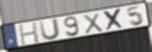5: (125, 4, 145, 27)
9: (63, 16, 81, 38)
H: (18, 21, 41, 46)
U: (38, 17, 61, 42)
X: (103, 7, 126, 32), (82, 11, 105, 35)
